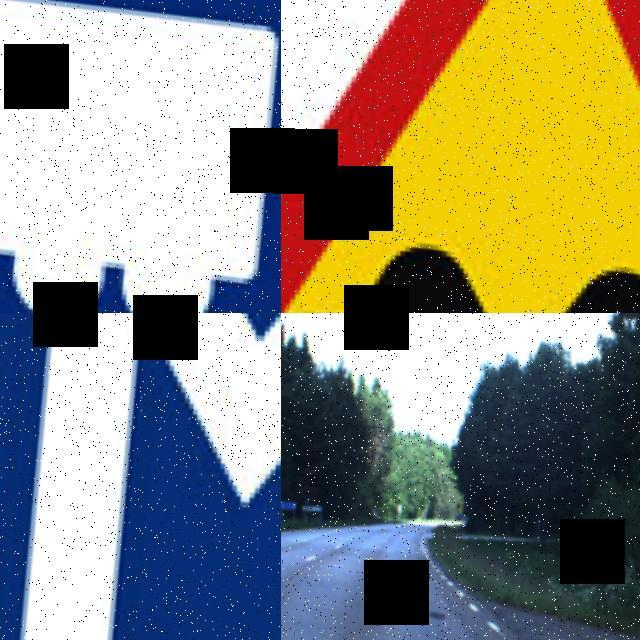173: (281, 496, 294, 515)
69: (0, 0, 281, 313)
78: (0, 313, 281, 640)
Uneven road: (281, 0, 640, 313)
